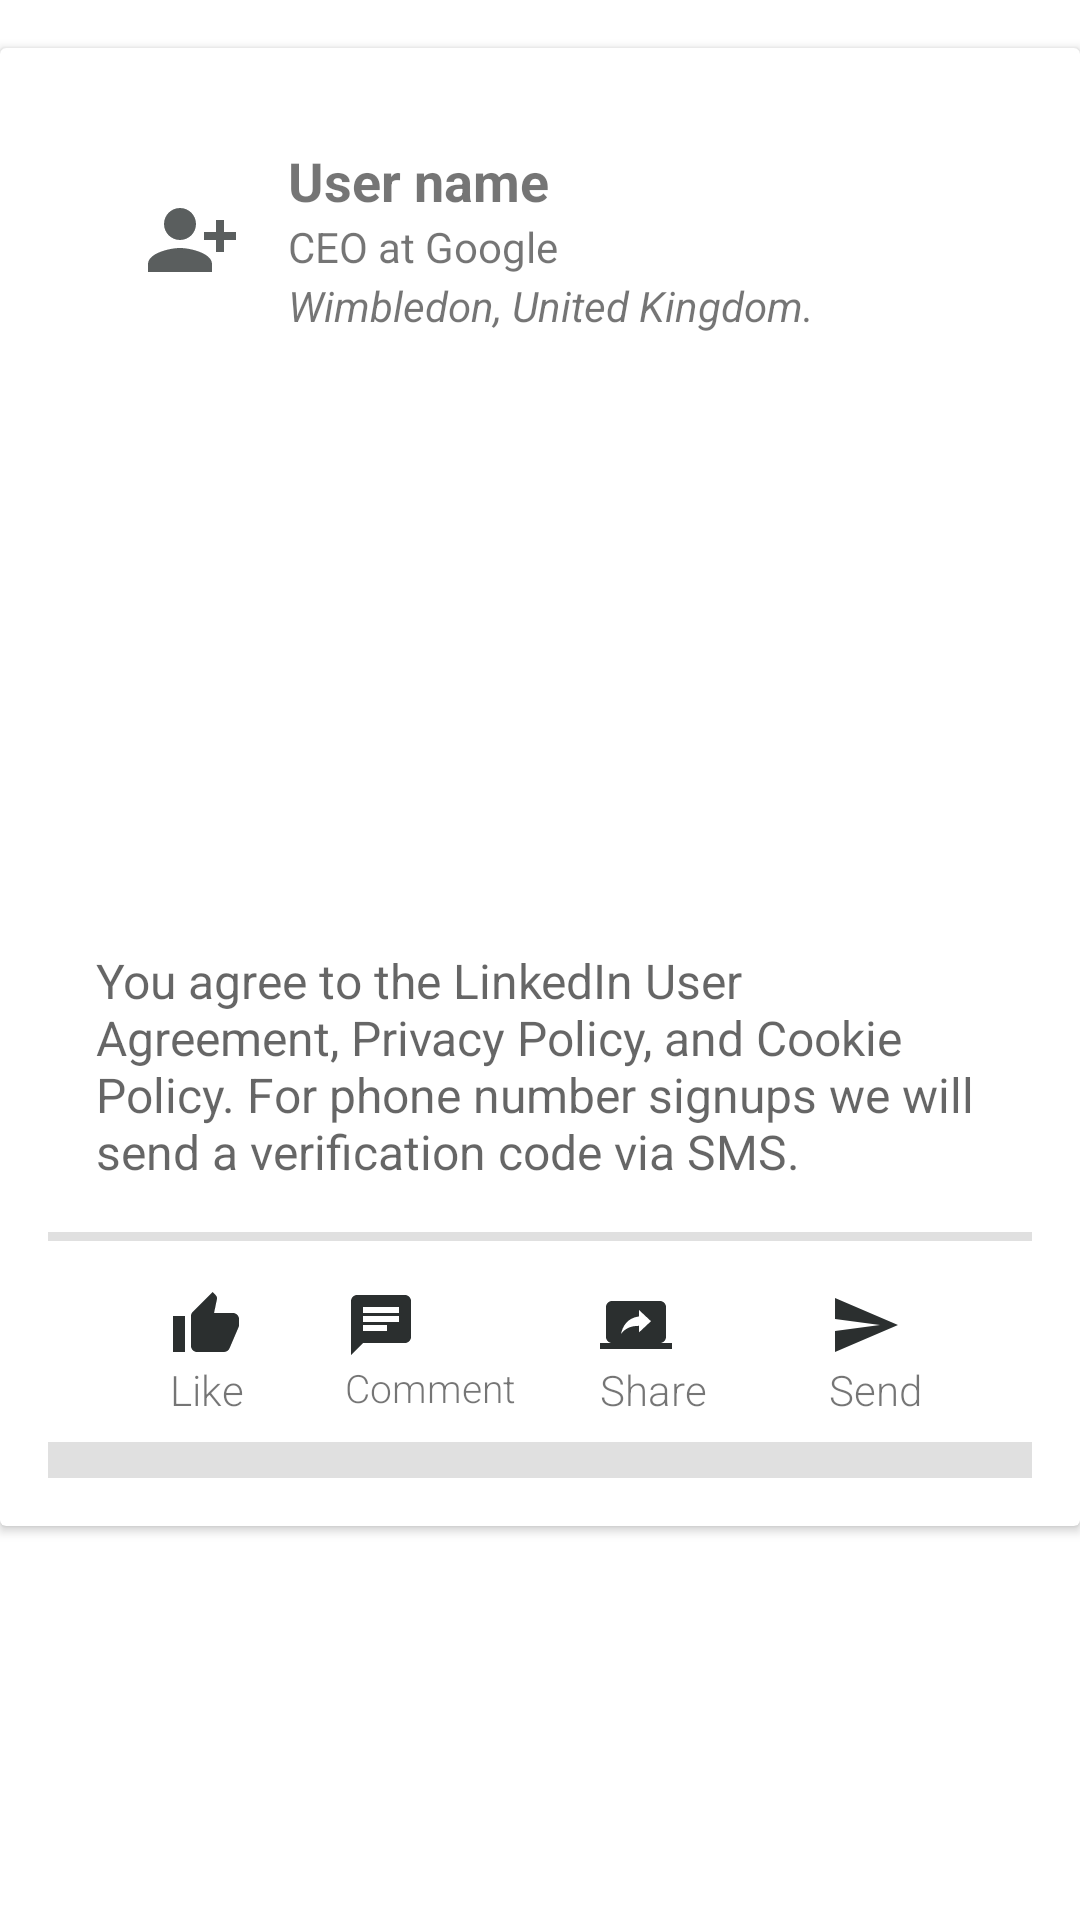

Icons on this 1080 × 1920 Android screen, each with its box as (x1, y1, x2, y2):
chat: (351, 1295, 411, 1355)
person add: (148, 208, 236, 272)
